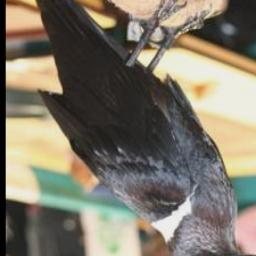Crow: (33, 0, 256, 256)
